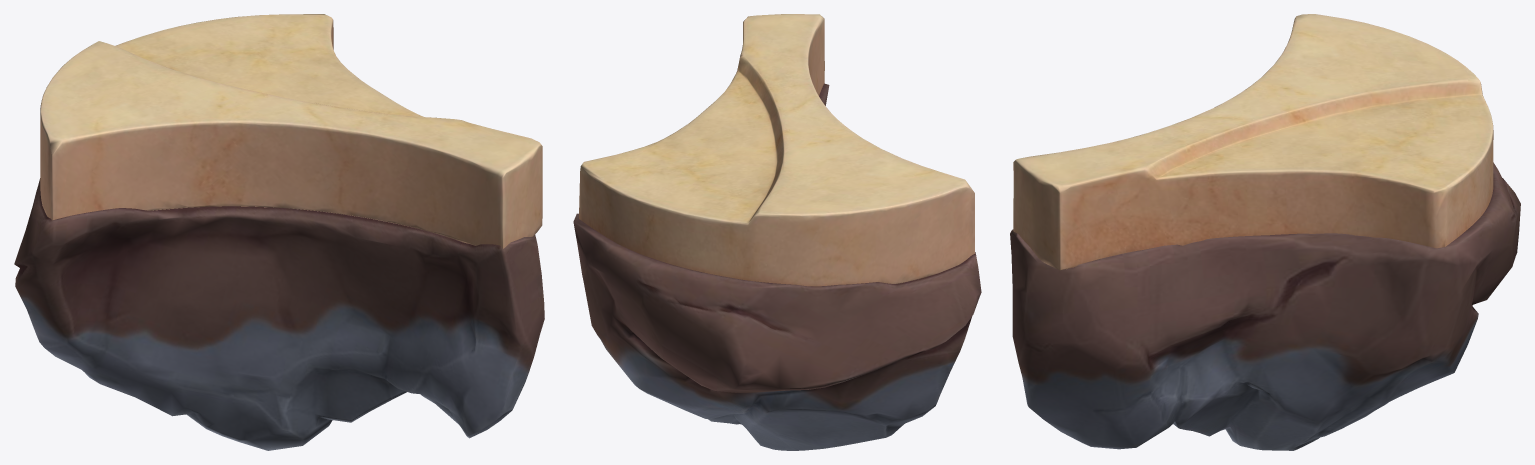
The model's file is sky_rock_02a1.glb.
The picture shows the model from 3 angles, left to right: view 1: azimuth 30°, elevation 25°; view 2: azimuth 150°, elevation 25°; view 3: azimuth 270°, elevation 25°; orthographic projection. The views are drawn at different scales.
Parts seen in each view (by area): view 1: rock_02a1; view 2: rock_02a1; view 3: rock_02a1.
Part boxes in pixels (x1,y1,x2,y2): rock_02a1: (14,14,544,450); rock_02a1: (573,14,981,450); rock_02a1: (1010,14,1520,450).
Size of the model in its own units: 37.61 by 32.04 by 44.02.
1 material, 1 textured.
